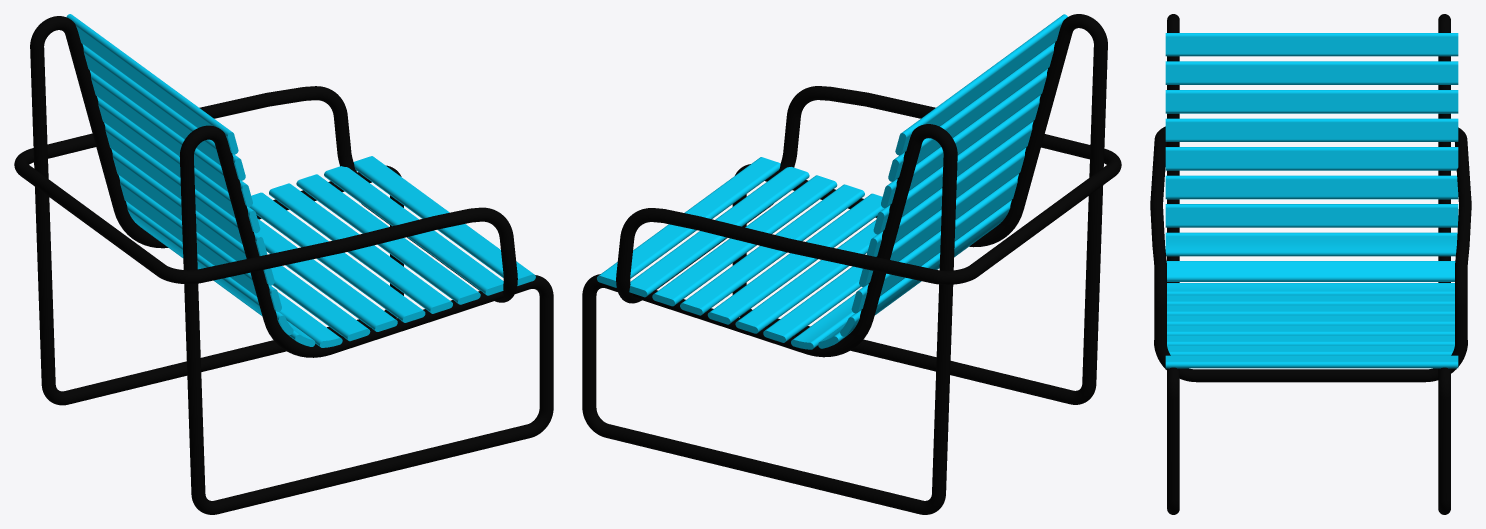
File: 80s pool chair.obj
3 views of the same model, side by side, from view 1: azimuth 30°, elevation 25°; view 2: azimuth 150°, elevation 25°; view 3: azimuth 270°, elevation 25° (orthographic). The views are drawn at different scales.
Parts seen in each view (by area): view 1: CC.1; view 2: CC.1; view 3: CC.1.
Part boxes in pixels (x1=…): CC.1: x1=14, y1=14, x2=553, y2=514; CC.1: x1=582, y1=14, x2=1121, y2=514; CC.1: x1=1150, y1=14, x2=1471, y2=514.
Size of the model in its own units: 42.04 by 40.23 by 33.21.
